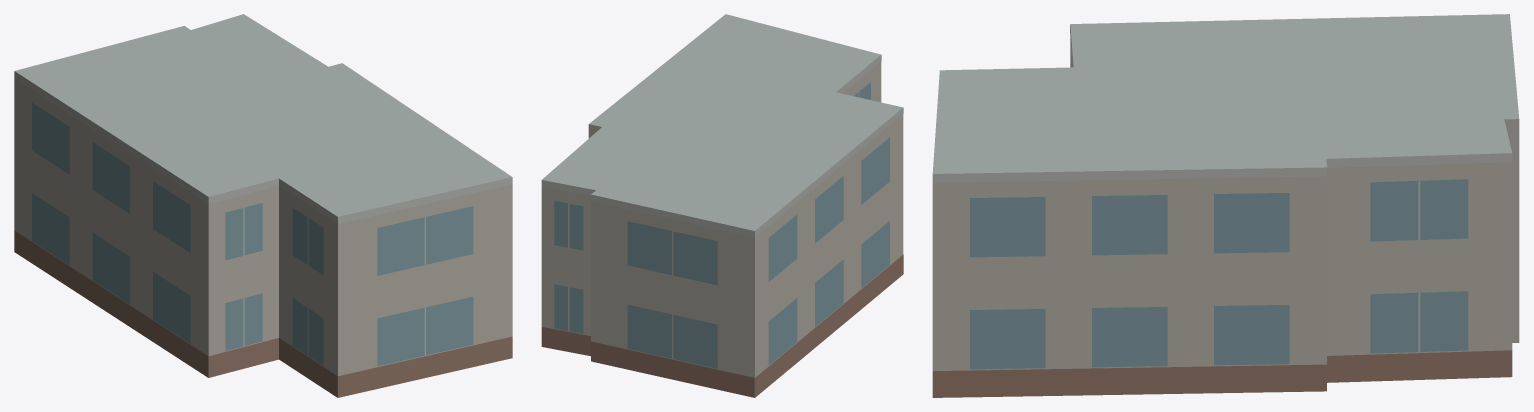
Rendered from survey-upis-33008504.glb.
The picture shows the model from 3 angles, left to right: view 1: azimuth 30°, elevation 25°; view 2: azimuth 150°, elevation 25°; view 3: azimuth 270°, elevation 25°; orthographic projection. The views are drawn at different scales.
Parts seen in each view (by area): view 1: survey-upis-33008504.tmp; view 2: survey-upis-33008504.tmp; view 3: survey-upis-33008504.tmp.
Boxes of the visible parts, x1,y1,x2,y2 form: survey-upis-33008504.tmp: (14, 14, 512, 397); survey-upis-33008504.tmp: (541, 14, 903, 397); survey-upis-33008504.tmp: (932, 14, 1519, 397).
Bounding box in the file's own units: 9.35 × 6.1 × 14.5.
